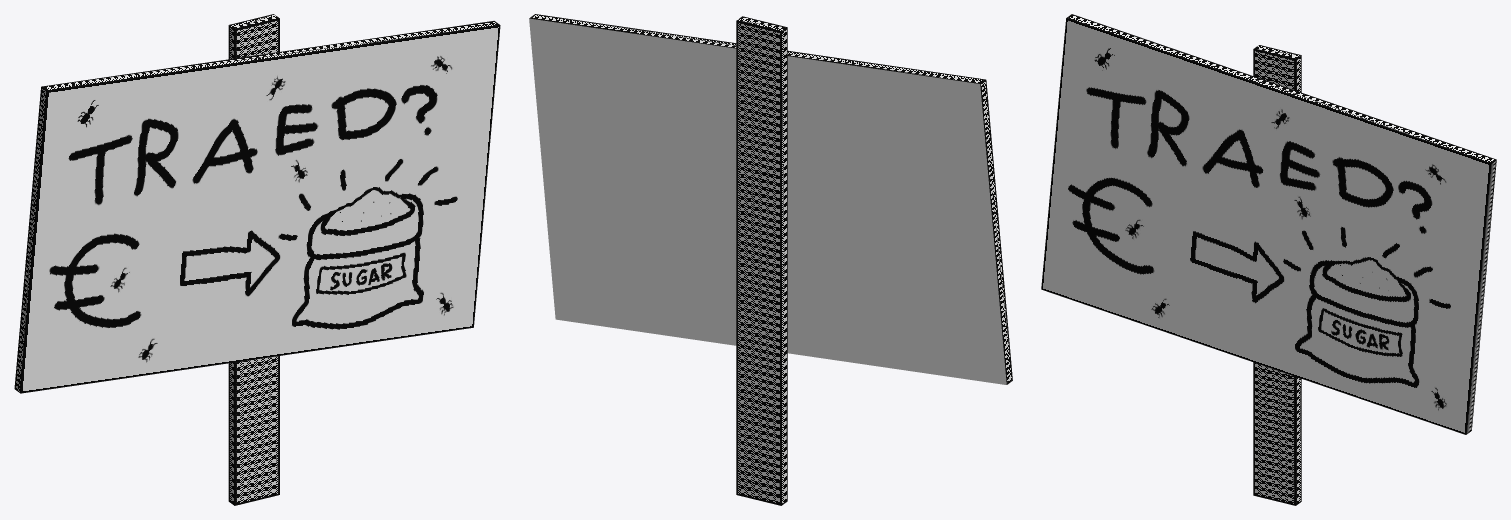
File: tradedeal.glb
3 views of the same model, side by side, from view 1: azimuth 30°, elevation 25°; view 2: azimuth 150°, elevation 25°; view 3: azimuth 330°, elevation 25° (orthographic). The views are drawn at different scales.
Parts seen in each view (by area): view 1: Cube; view 2: Cube; view 3: Cube.
Boxes of the visible parts, x1,y1,x2,y2 form: Cube: (14,14,500,505); Cube: (529,14,1012,505); Cube: (1041,14,1496,505).
Bounding box in the file's own units: 9 × 8.54 × 0.4.
1 material, 1 textured.
